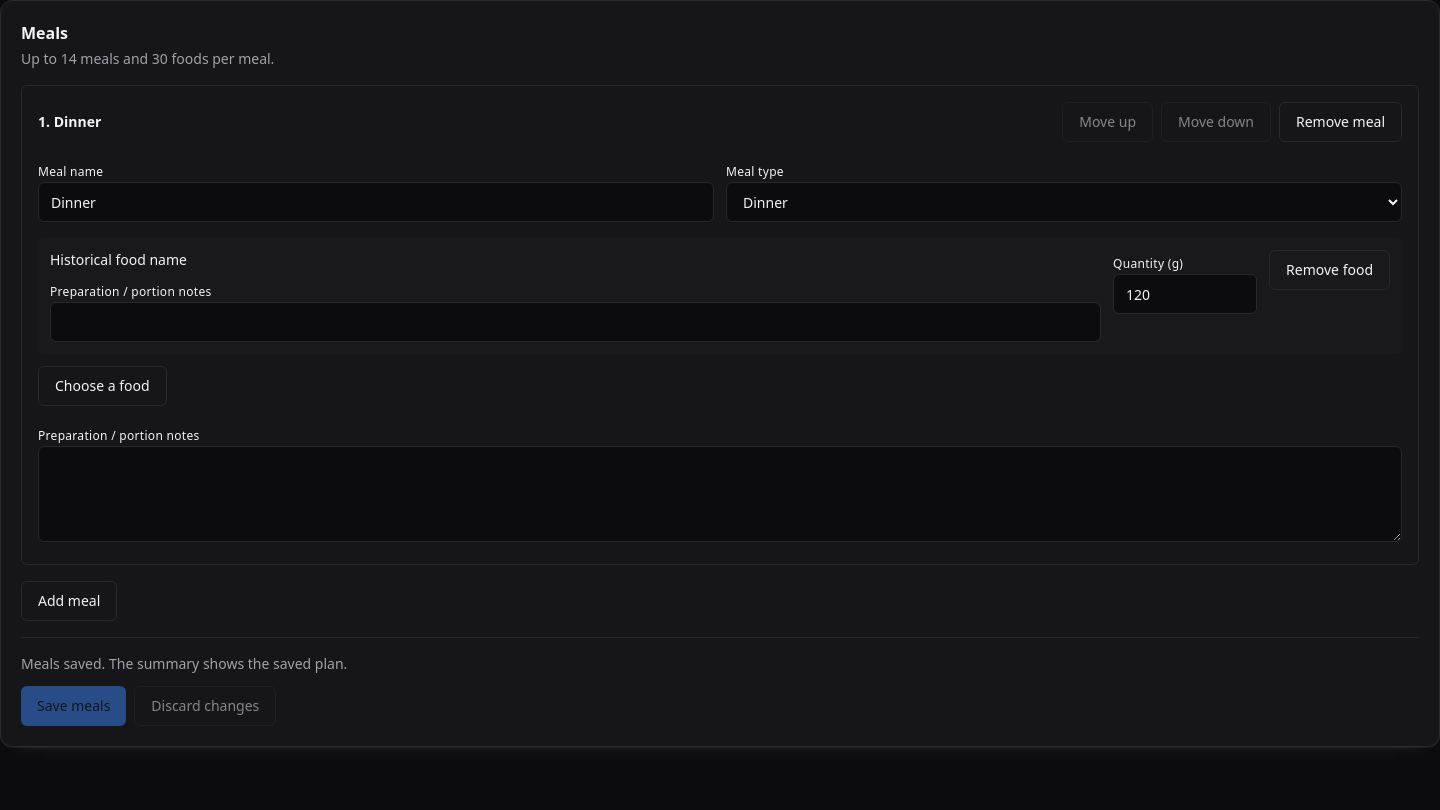
Test: Nutrition meal editor › rejects zero portions and permits undoing local removal
The image size is (1440, 810).
Replace the text in the field labelled "Quantity (g)" with "0" at coordinates (1185, 294), box top-left (1113, 274), bottom-right (1257, 314)
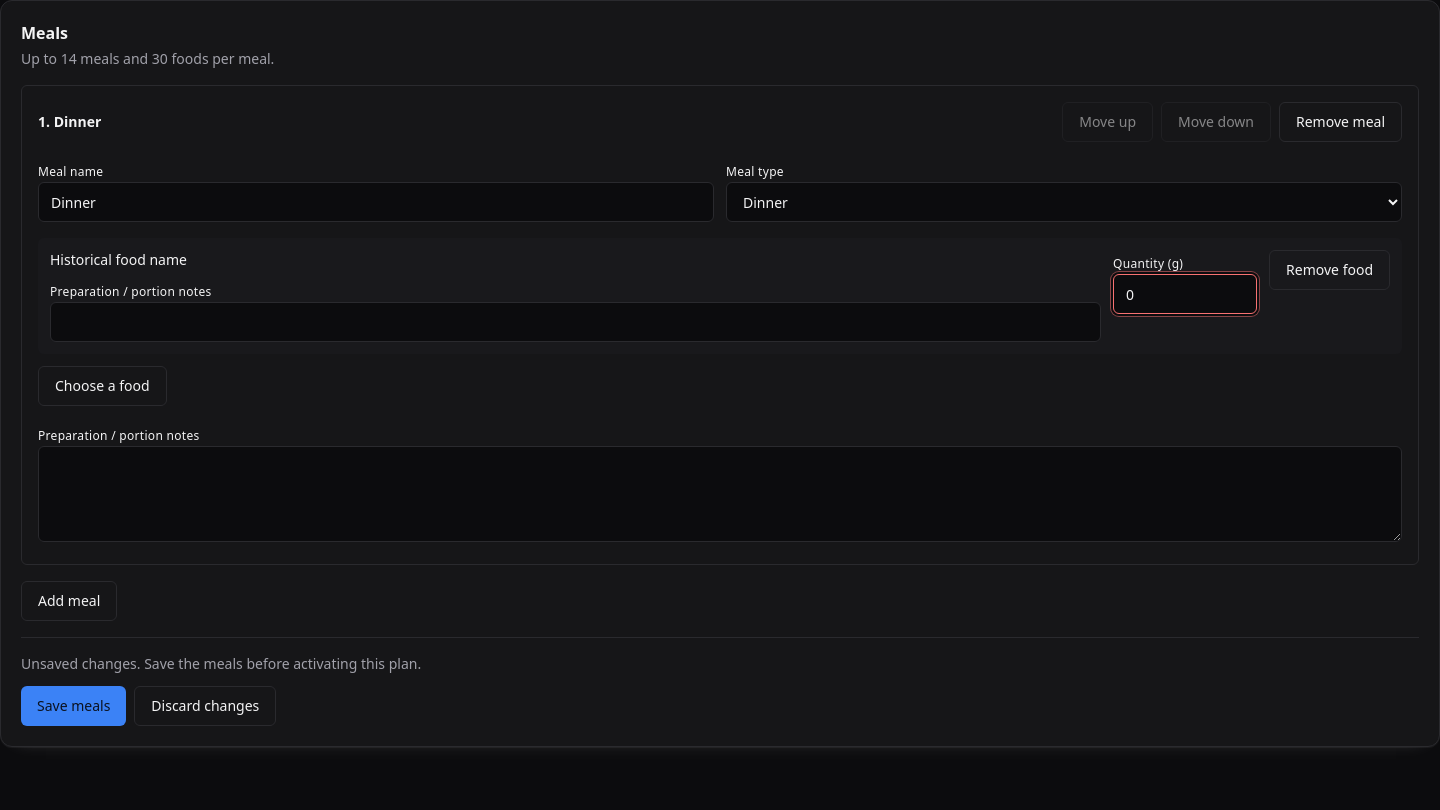
Check: the field labelled "Quantity (g)" is marked as invalid, box top-left (1113, 274), bottom-right (1257, 314)
Click the button "Save meals".
click(74, 706)  # box top-left (21, 686), bottom-right (126, 726)
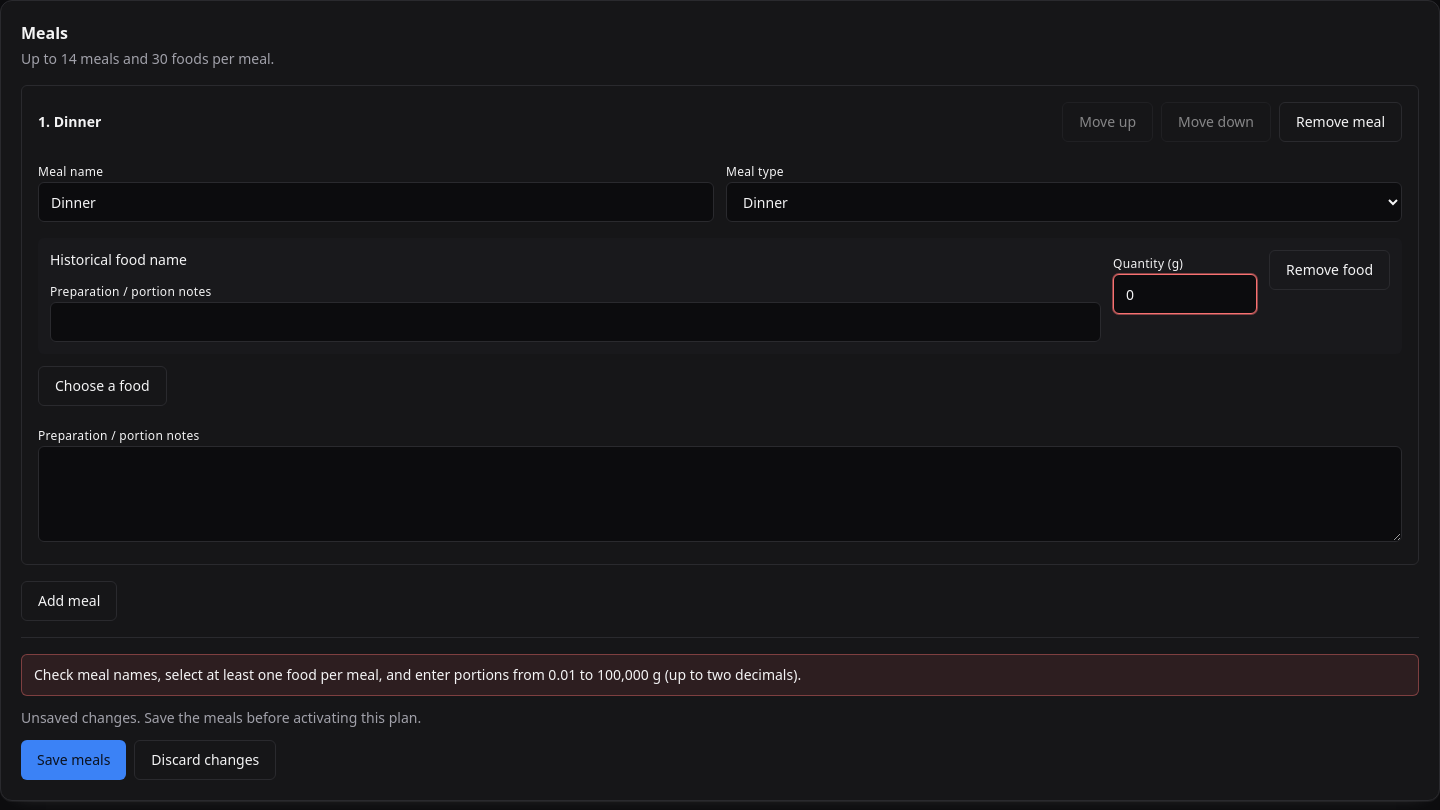
Check: the 1st message shows "Check meal names, select at least one food per meal, and enter portions from 0.01 to 100,000 g (up to two decimals).", box top-left (34, 665), bottom-right (801, 684)
Click the button "Remove food".
click(1330, 270)  # box top-left (1269, 250), bottom-right (1390, 290)
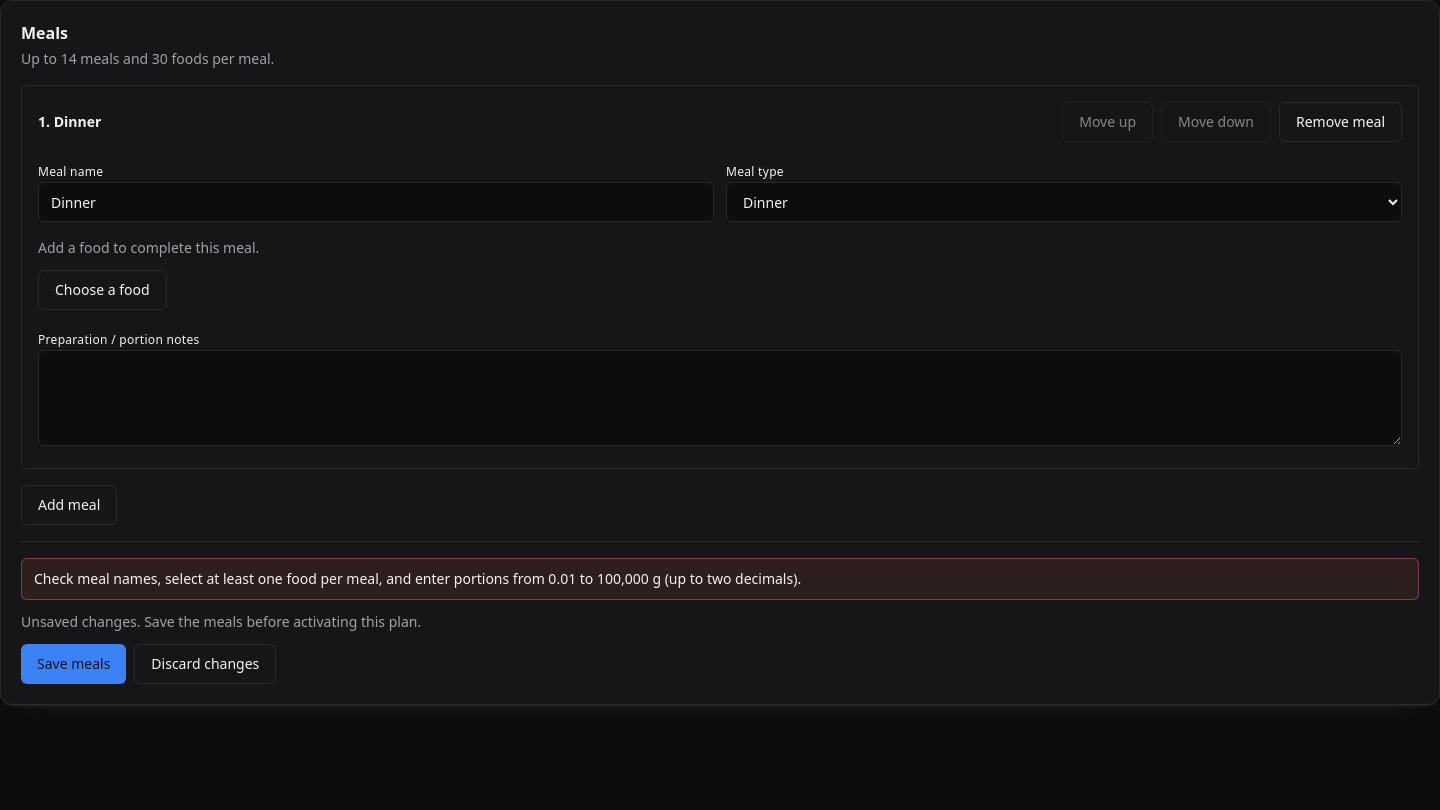
Check: the text "Historical food name" is gone
Click the button "Discard changes".
click(205, 664)  # box top-left (134, 644), bottom-right (276, 684)
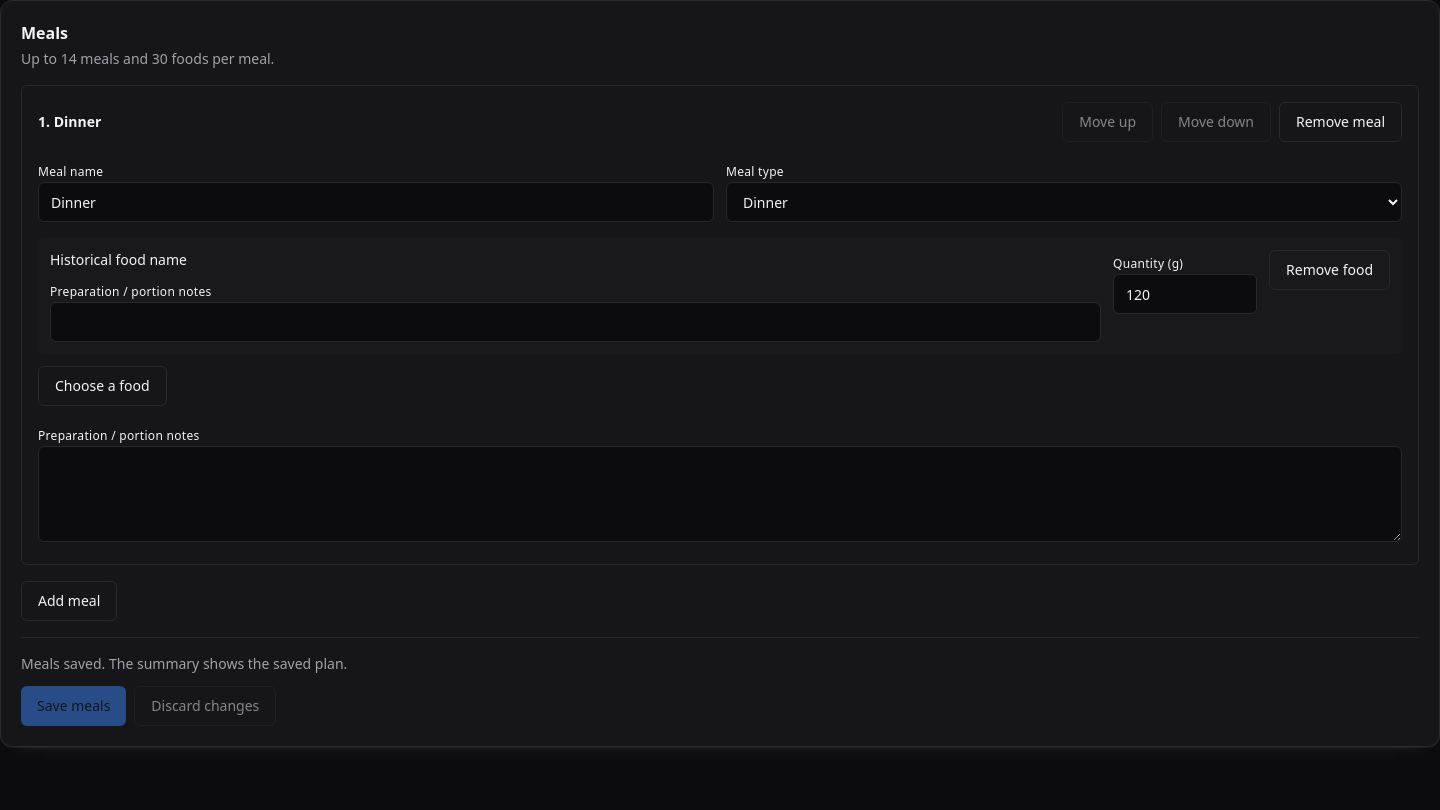
Check: the text "Historical food name" is shown, box top-left (50, 250), bottom-right (187, 269)
Check: the field labelled "Quantity (g)" holds "120", box top-left (1113, 274), bottom-right (1257, 314)
